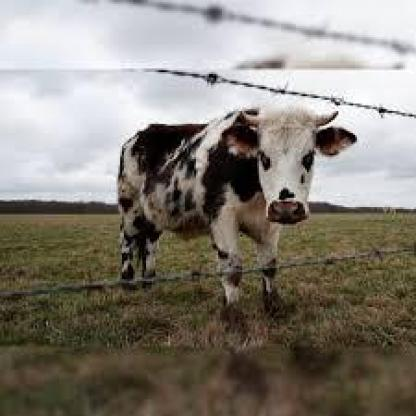cow: (119, 105, 356, 307)
